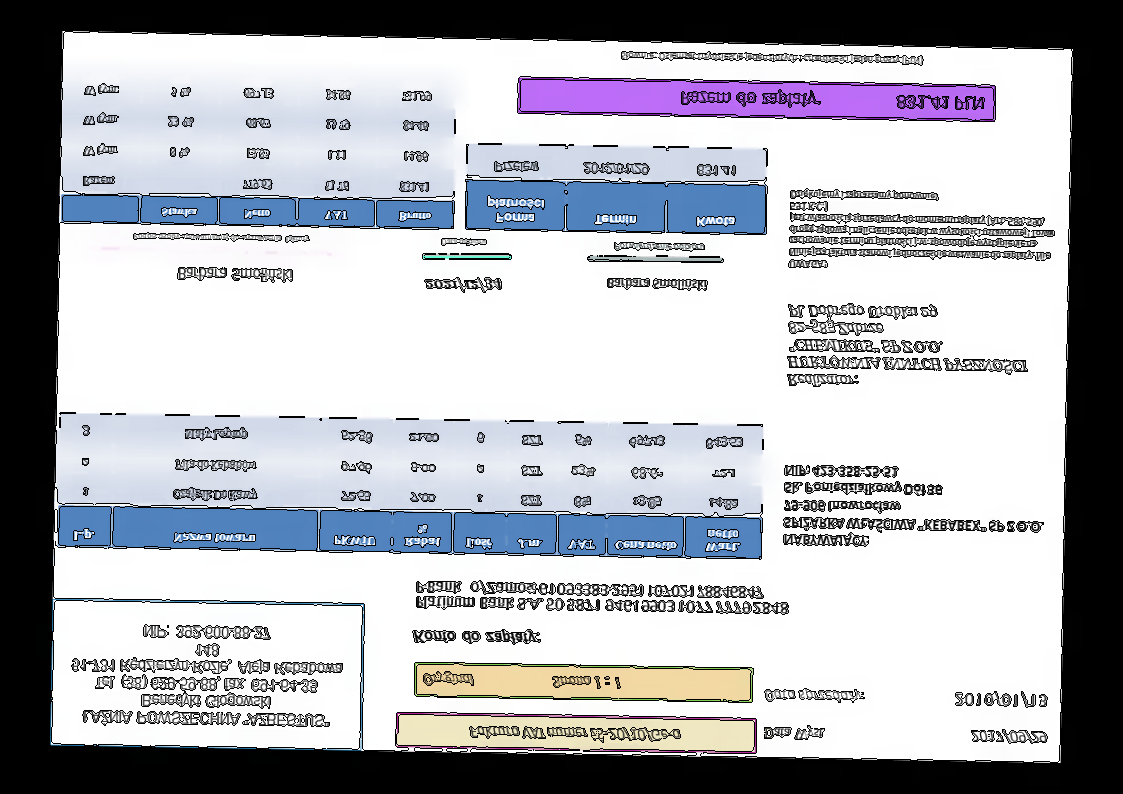Table: (56, 412, 765, 560), (60, 71, 458, 230), (464, 141, 769, 237)
TextBox: (67, 621, 346, 733), (782, 462, 1047, 551), (787, 187, 1057, 274), (784, 302, 1031, 393), (413, 578, 792, 618), (678, 87, 987, 114), (617, 47, 926, 68), (420, 669, 624, 692), (467, 724, 683, 744), (411, 626, 544, 649), (131, 230, 312, 246), (176, 265, 295, 285), (762, 686, 867, 706), (953, 688, 1047, 710), (423, 273, 504, 295), (604, 276, 709, 292), (968, 727, 1048, 747), (761, 723, 830, 743), (611, 240, 705, 254), (439, 237, 487, 248)
